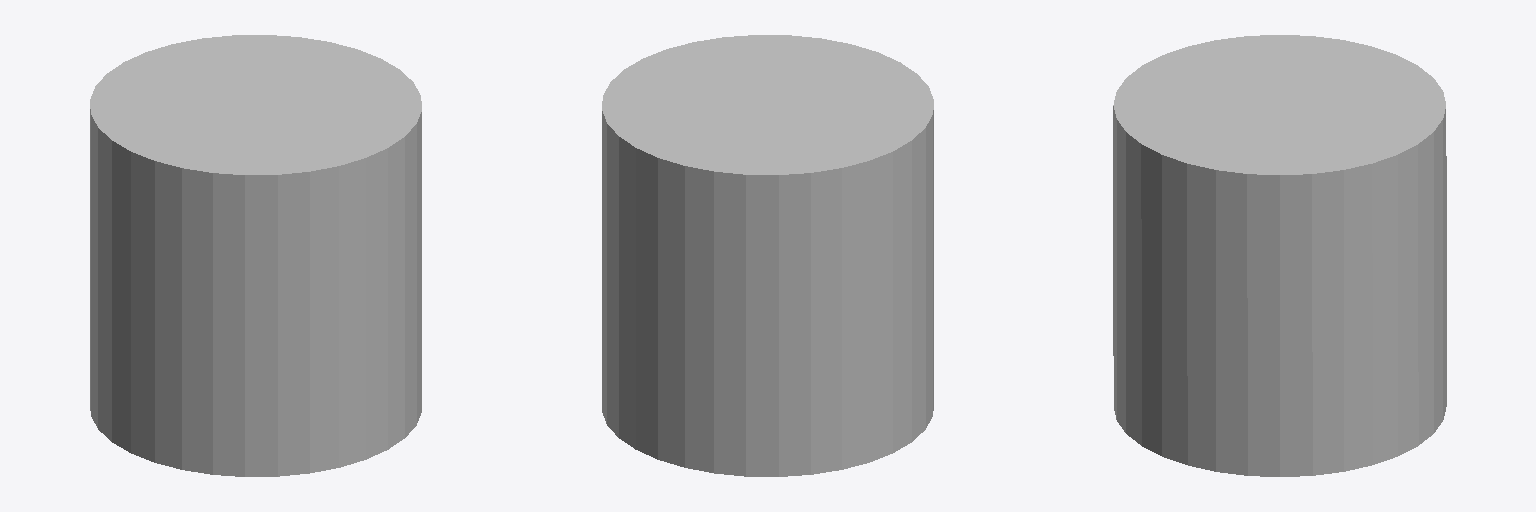
3 views of the same model, side by side, from view 1: azimuth 30°, elevation 25°; view 2: azimuth 150°, elevation 25°; view 3: azimuth 270°, elevation 25° (orthographic).
Parts seen in each view (by area): view 1: Cylinder; view 2: Cylinder; view 3: Cylinder.
Boxes of the visible parts, box(x1,y1,x2,y2) form: Cylinder: box(90, 35, 421, 476); Cylinder: box(602, 35, 933, 476); Cylinder: box(1113, 35, 1446, 476).
Bounding box in the file's own units: 2 × 2 × 2.